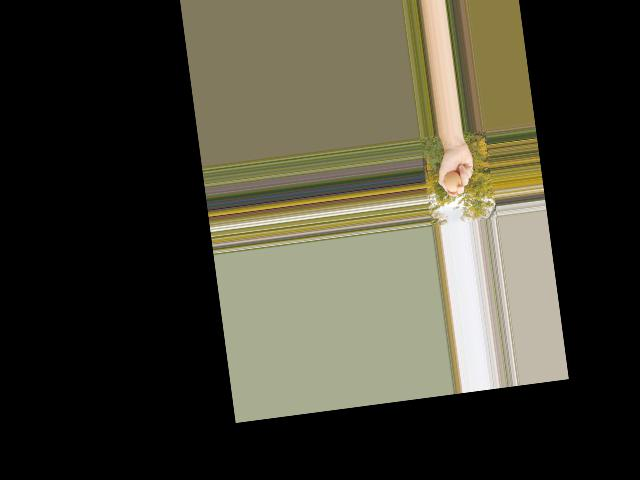egg: (444, 170, 463, 193)
